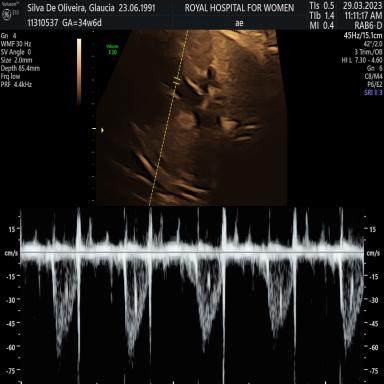Ultrasound-Waves: (29, 206, 363, 384)
